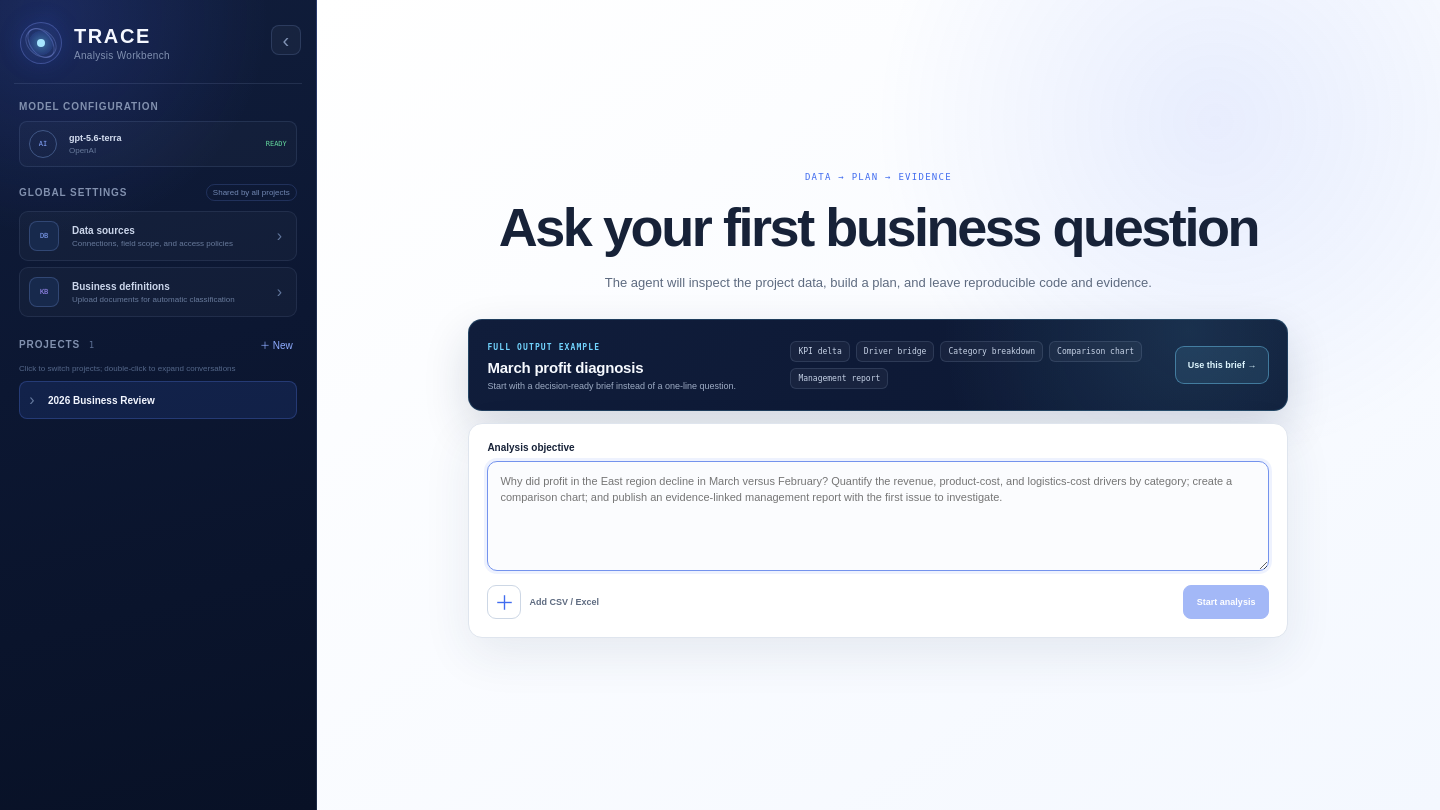
Test case: analysis workbench › renames a project inline from the task tree
Click the button named "Project actions for 2026 Business Review" at (282, 400), box [268,384,296,416]
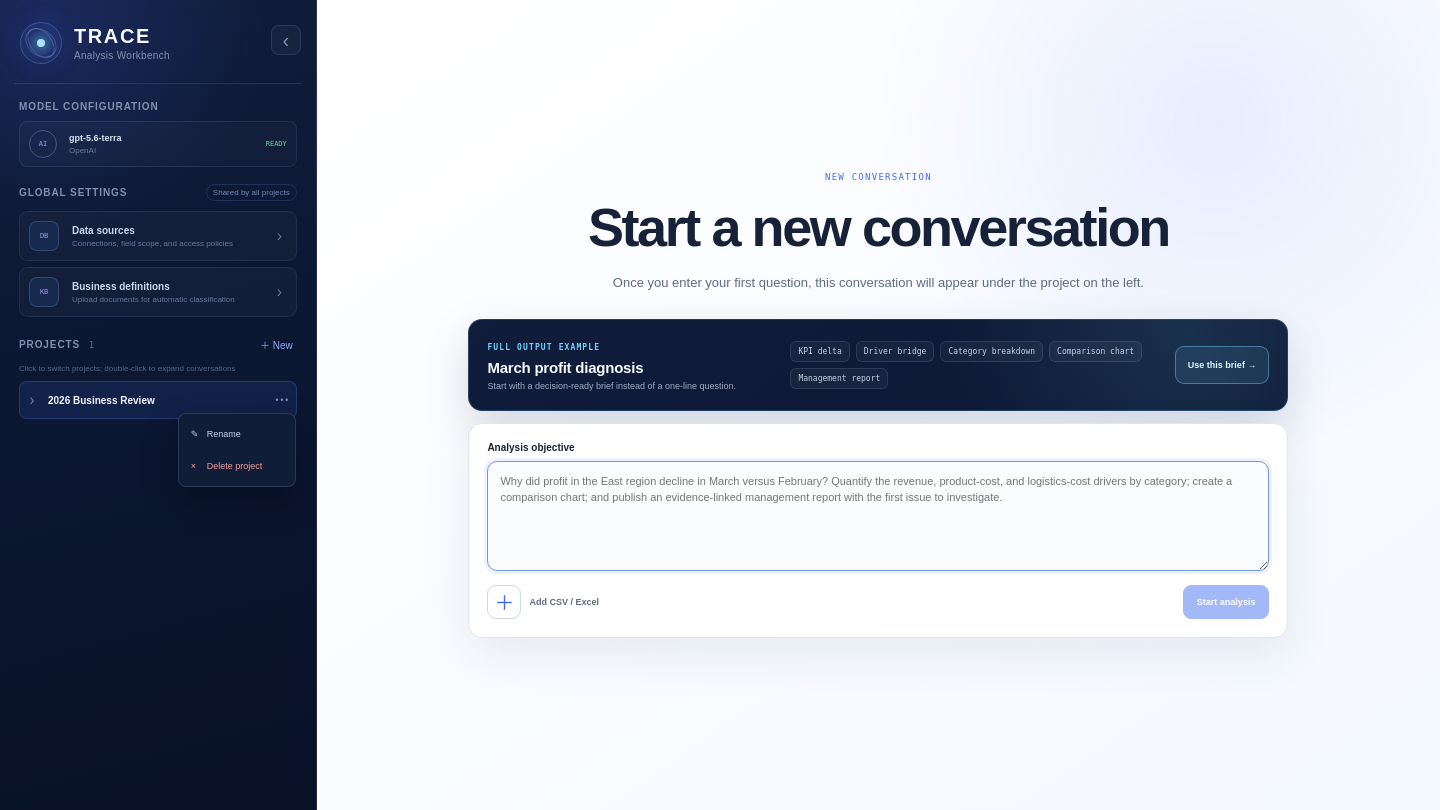
Click the menu item "✎ Rename" at (237, 434), box [184,419,290,449]
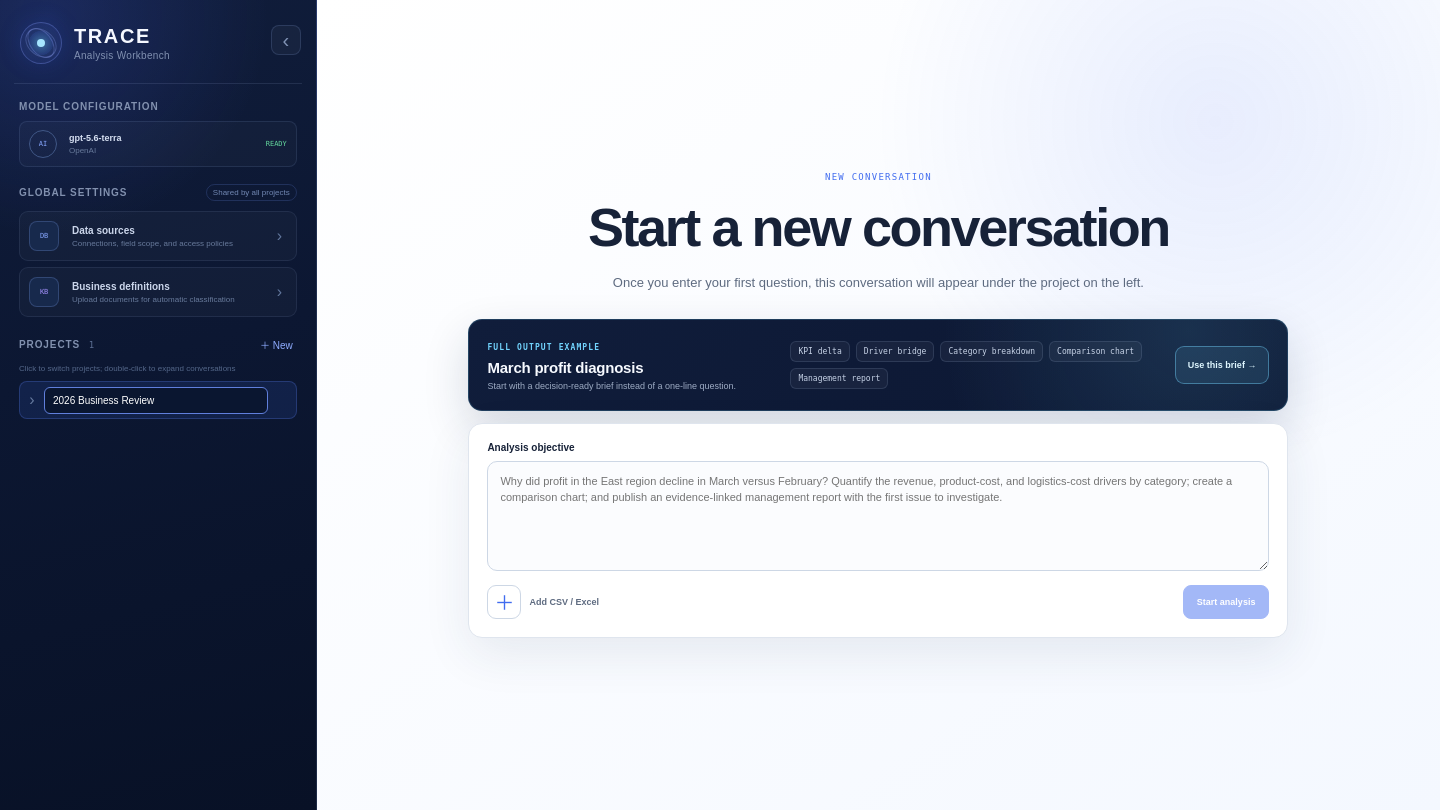
Replace the text in the field named "Rename project 2026 Business Review" with "华东经营复盘" at (156, 400), box [44,386,268,414]
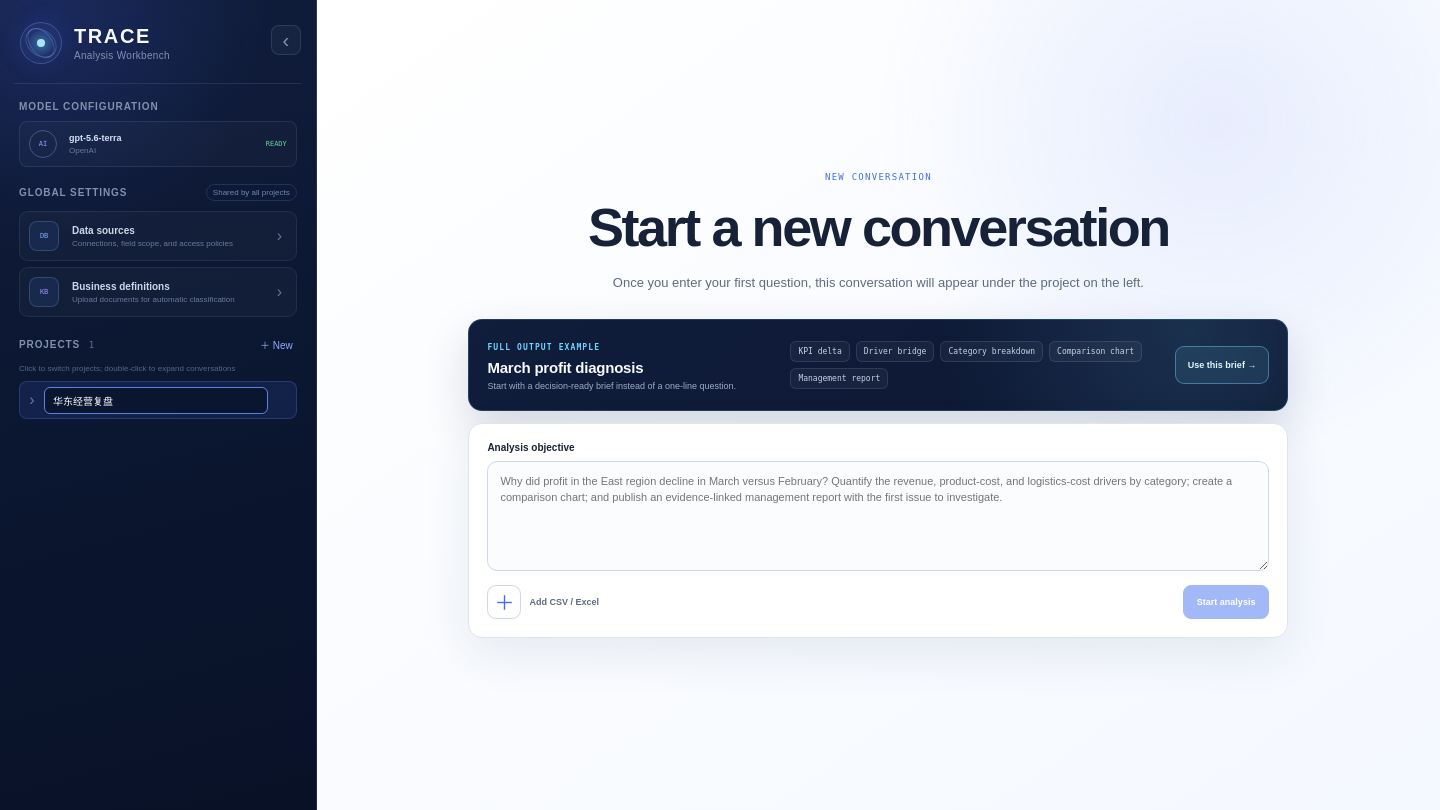
Press Enter in the field named "Rename project 2026 Business Review", box [44,386,268,414]
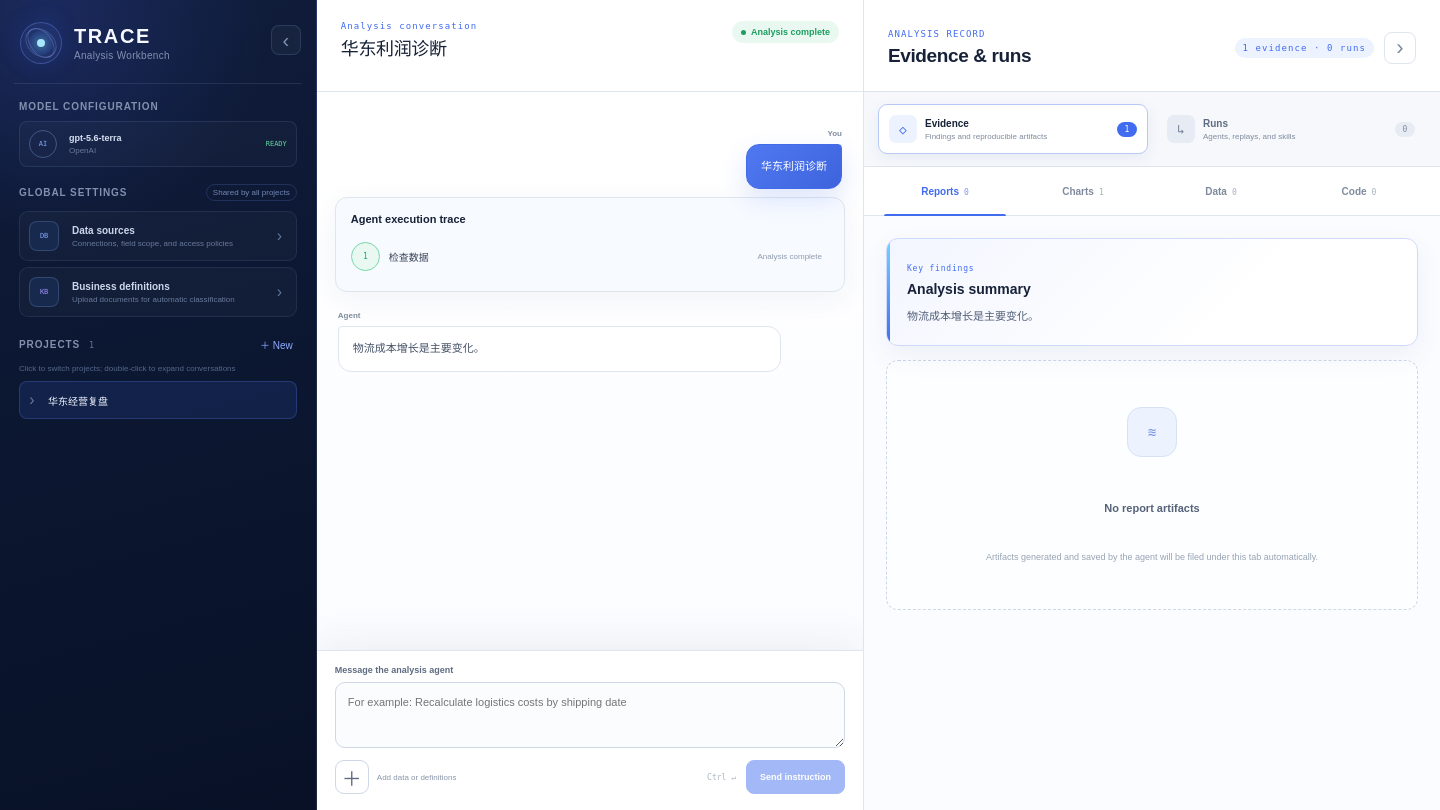
Result: the button "华东经营复盘" is shown at [44,382,268,418]
